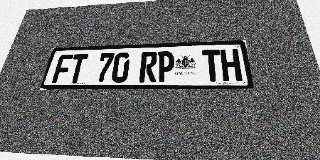0: (111, 52, 131, 82)
7: (94, 53, 115, 83)
F: (52, 54, 74, 83)
H: (220, 49, 242, 81)
P: (157, 51, 174, 82)
R: (139, 51, 158, 82)
T: (202, 49, 222, 82), (67, 54, 88, 83)
